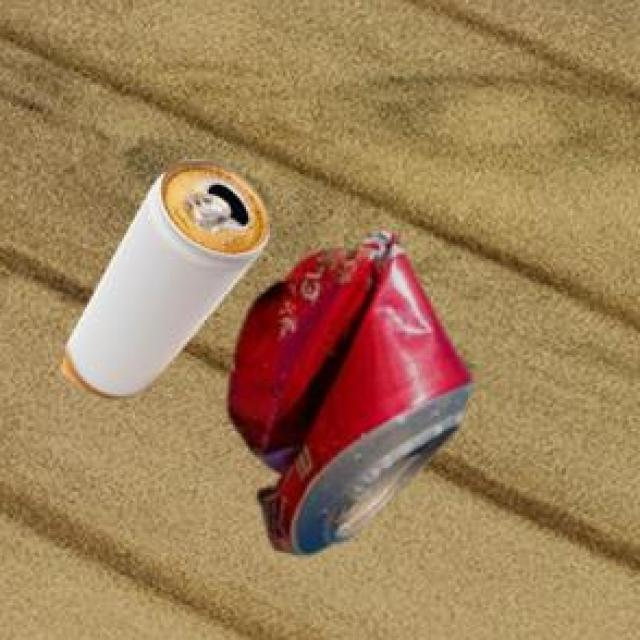logam: (232, 236, 476, 558), (64, 164, 271, 402)
